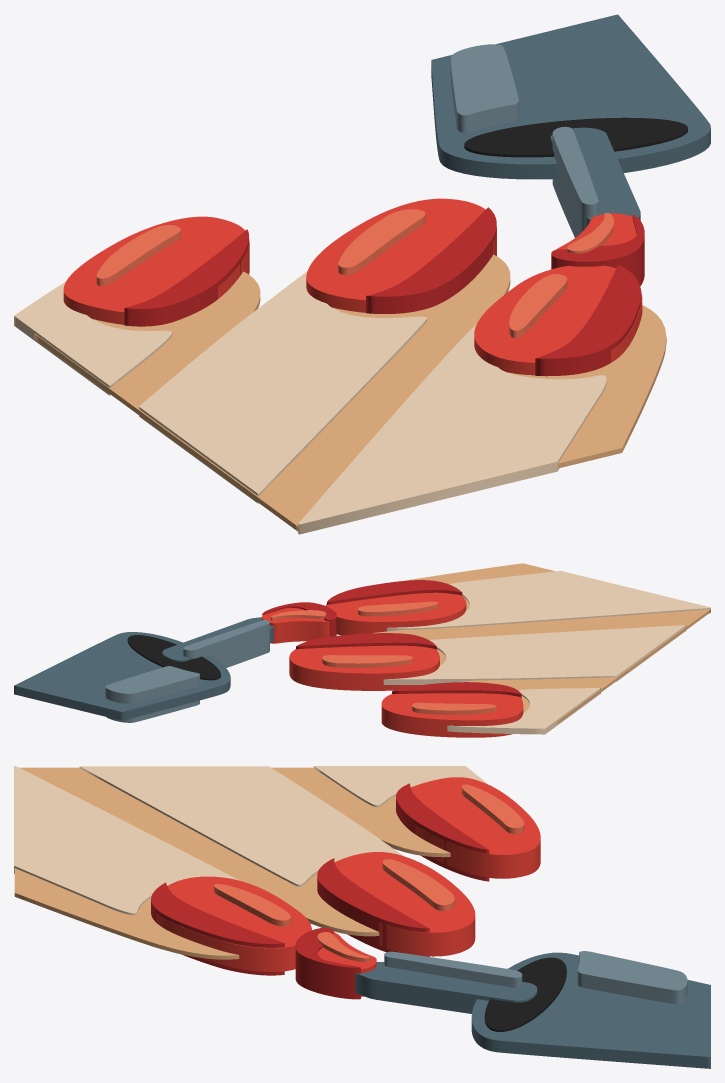
The model's file is emoji_u1f485_1f3fb.glb.
3 renders of one model, top to bottom at view 1: azimuth 30°, elevation 25°; view 2: azimuth 150°, elevation 25°; view 3: azimuth 270°, elevation 25°, orthographic. The views are drawn at different scales.
Visible parts, largest first — view 1: emoji_u1f485_1f3fb; view 2: emoji_u1f485_1f3fb; view 3: emoji_u1f485_1f3fb.
Boxes of the visible parts, x1=… form: emoji_u1f485_1f3fb: x1=14, y1=14, x2=710, y2=534; emoji_u1f485_1f3fb: x1=14, y1=563, x2=710, y2=737; emoji_u1f485_1f3fb: x1=14, y1=766, x2=710, y2=1068.
Bounding box in the file's own units: 0.0319 × 0.002 × 0.032.
